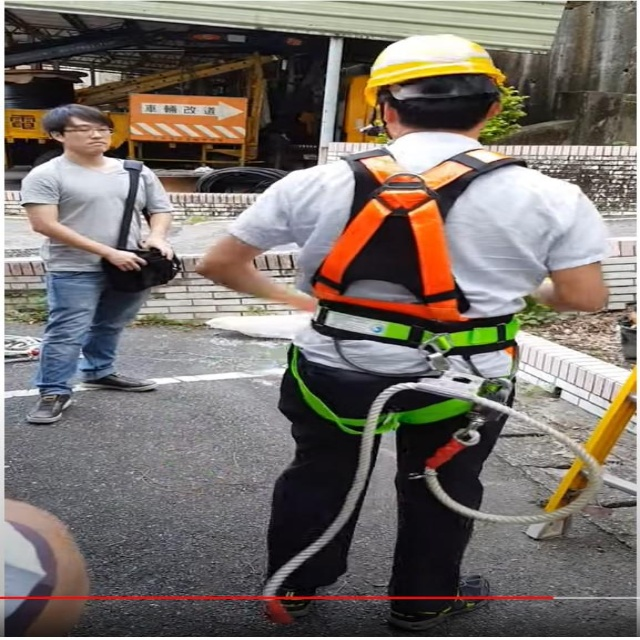Arnes_seguridad: (295, 147, 521, 440)
